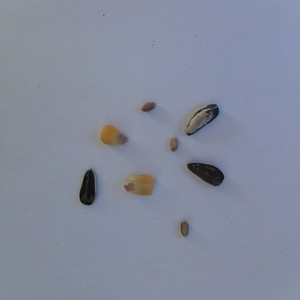girasol: (184, 159, 228, 191), (183, 100, 221, 136), (76, 163, 97, 209)
maiz: (119, 172, 156, 200), (97, 122, 129, 149)
trigo: (138, 97, 156, 115), (177, 219, 191, 240), (166, 136, 182, 154)
